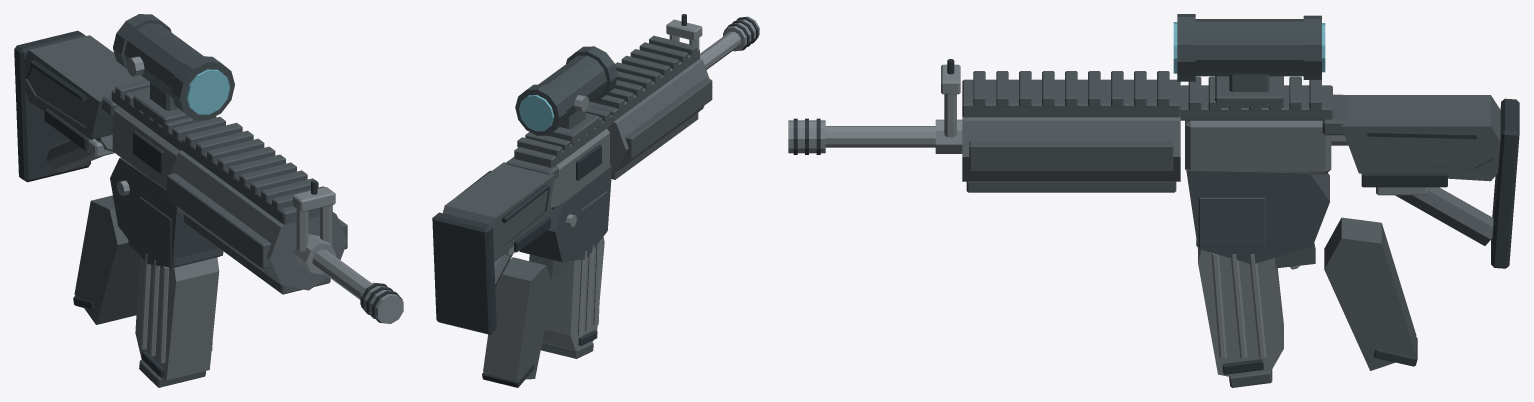
The picture shows the model from 3 angles, left to right: view 1: azimuth 30°, elevation 25°; view 2: azimuth 150°, elevation 25°; view 3: azimuth 270°, elevation 25°; orthographic projection. The views are drawn at different scales.
Visible parts, largest first — view 1: StaticVisual; view 2: StaticVisual; view 3: StaticVisual.
Boxes of the visible parts, box(x1,y1,x2,y2) form: StaticVisual: box(14, 14, 403, 387); StaticVisual: box(432, 14, 759, 387); StaticVisual: box(788, 14, 1519, 387).
Bounding box in the file's own units: 0.182 × 0.6896 × 1.27.
